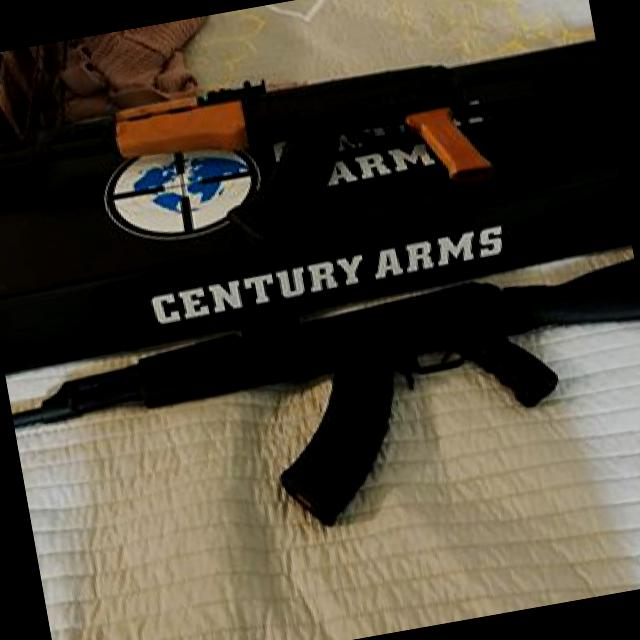long weapon: (0, 0, 616, 272)
